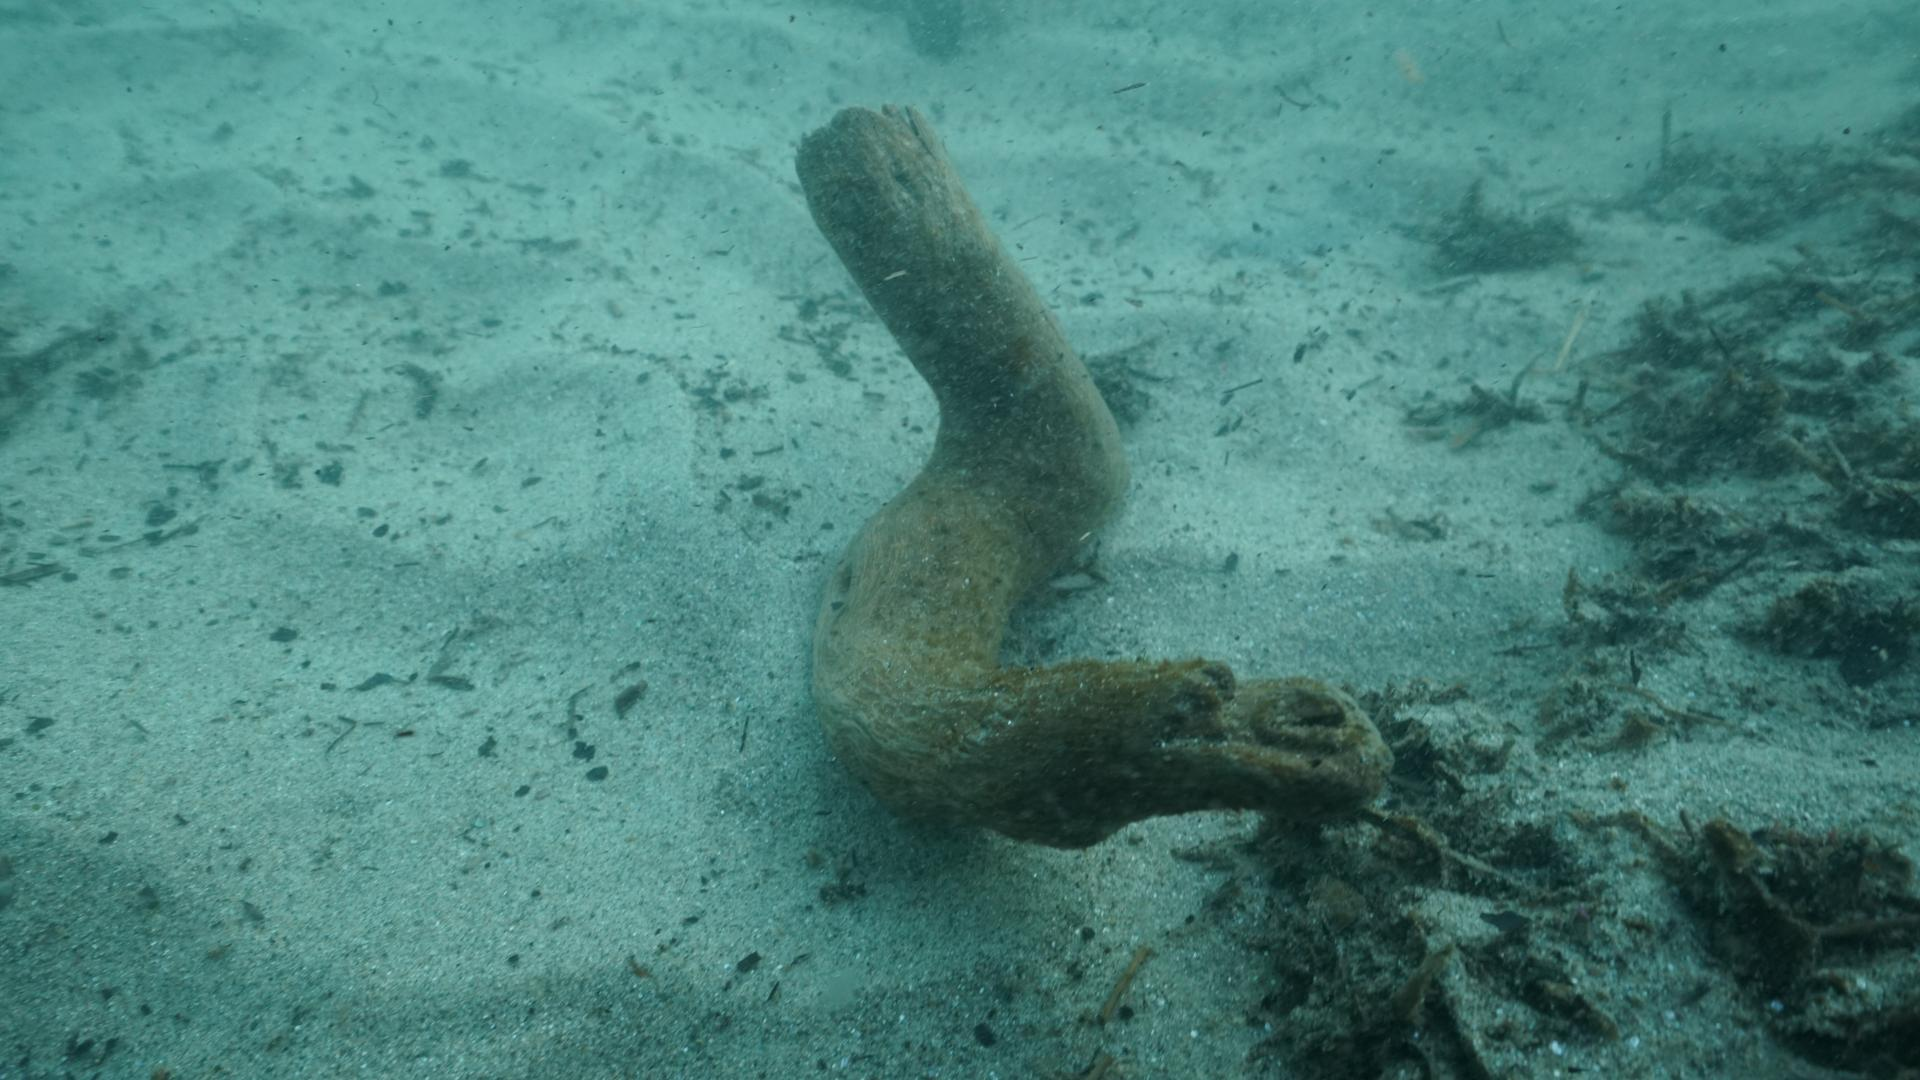wood: (790, 99, 1393, 852)
